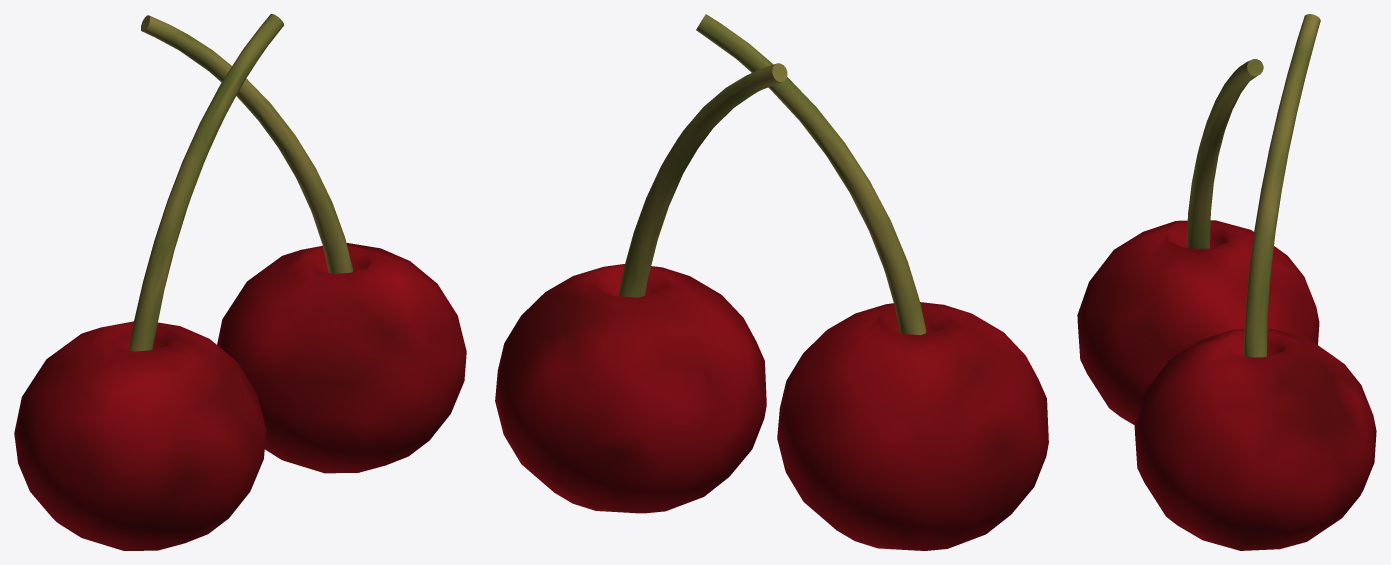
The model's file is kirschen.glb.
The picture shows the model from 3 angles, left to right: view 1: azimuth 30°, elevation 25°; view 2: azimuth 150°, elevation 25°; view 3: azimuth 270°, elevation 25°; orthographic projection. The views are drawn at different scales.
Parts seen in each view (by area): view 1: p0, p1; view 2: p0, p1; view 3: p1, p0.
Part boxes in pixels (x1=…): p0: x1=14, y1=14, x2=283, y2=550; p1: x1=141, y1=15, x2=466, y2=473; p0: x1=696, y1=14, x2=1048, y2=550; p1: x1=495, y1=63, x2=787, y2=513; p1: x1=1134, y1=14, x2=1376, y2=550; p0: x1=1077, y1=59, x2=1319, y2=424.
Size of the model in its own units: 0.035 by 0.0346 by 0.021.
